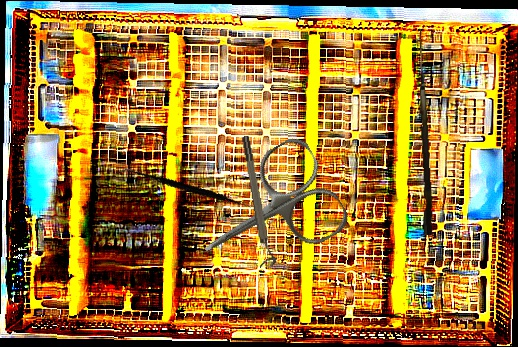Fixation Ring: (239, 134, 278, 269)
Hook Surgical: (409, 28, 437, 236)
Iris Scissors: (178, 132, 354, 295)
Spatula Surgical: (114, 133, 262, 246)
